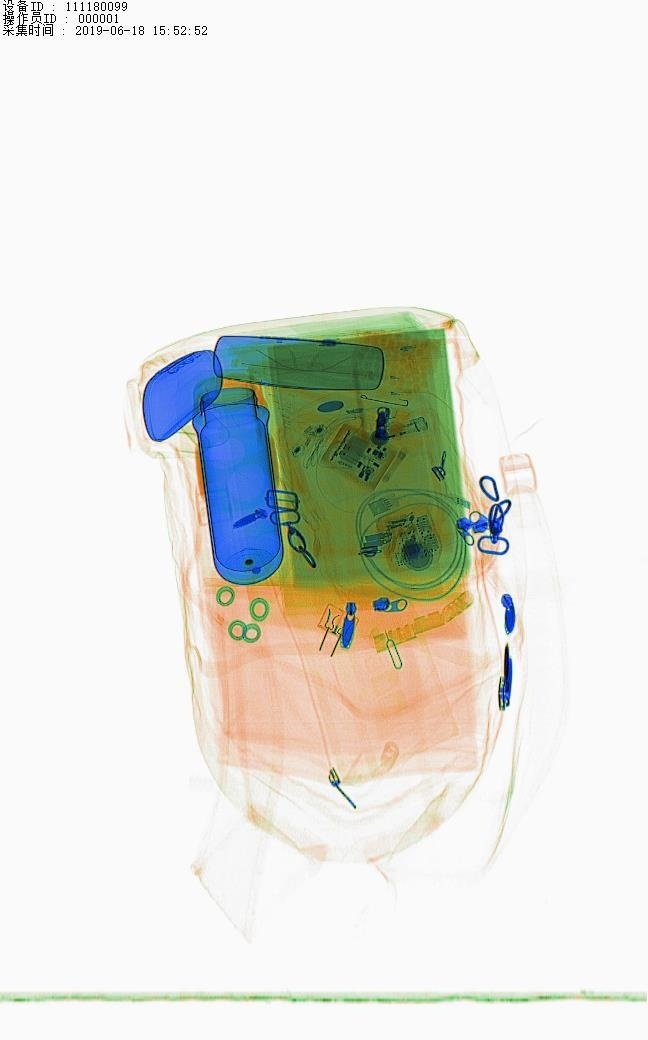NonmetallicFire: (337, 413, 450, 456)
